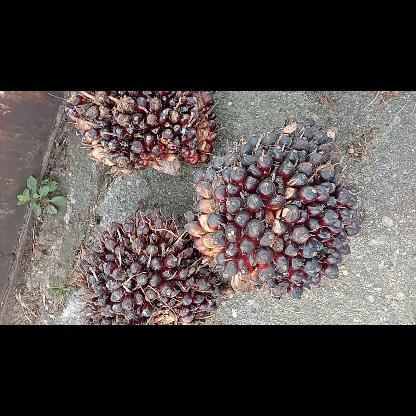TBS mentah: (185, 118, 361, 294), (78, 208, 218, 324), (65, 90, 217, 176)
